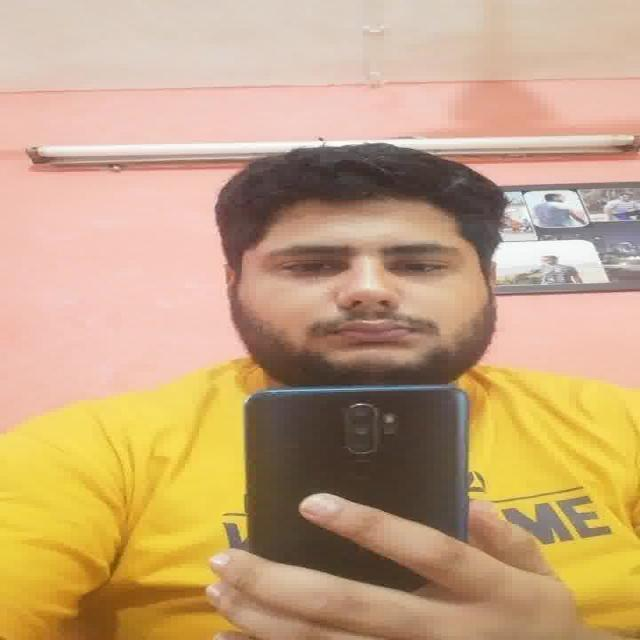phone: (238, 378, 476, 576)
